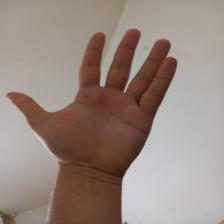five: (13, 29, 182, 169)
